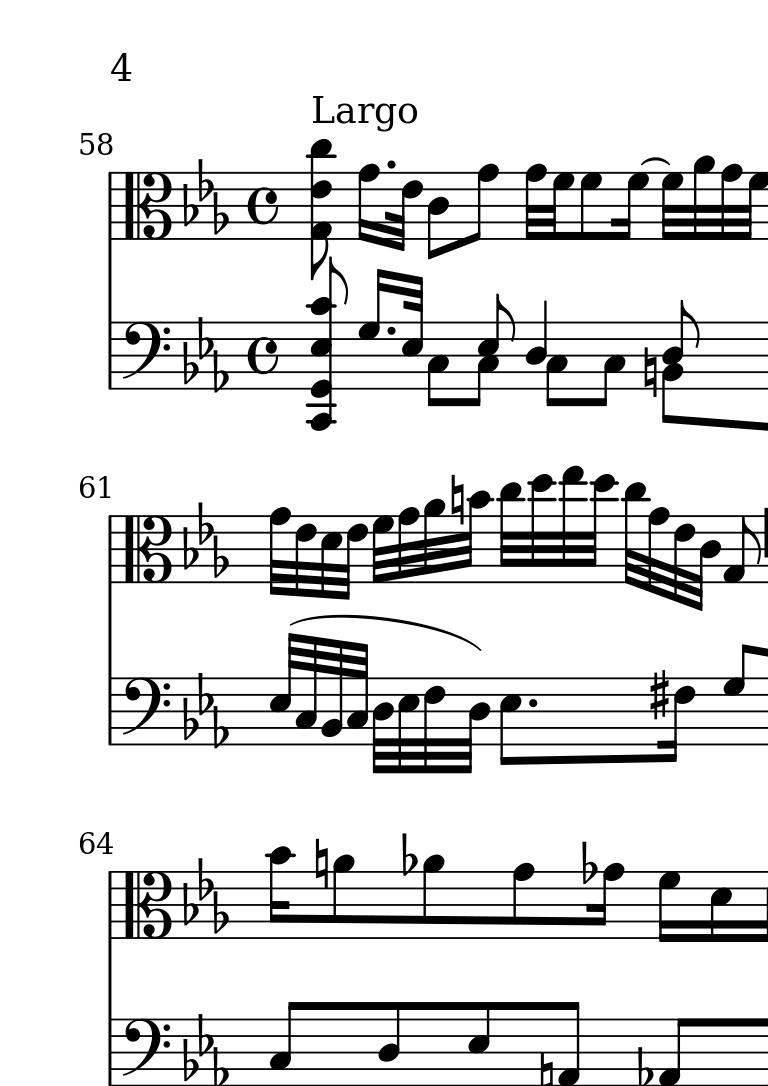1: (98, 474, 111, 501)
16_10: (266, 847, 293, 941)
16_5: (707, 869, 734, 945)
16_6: (659, 675, 695, 765)
16_7: (357, 268, 386, 389), (612, 171, 650, 242), (656, 869, 682, 947)
16_8: (588, 862, 625, 942), (356, 163, 381, 245)
16_9: (692, 155, 716, 241)
32_10: (461, 491, 490, 585)
32_11: (497, 481, 524, 584), (622, 481, 646, 589)
32_12: (524, 473, 555, 585), (587, 473, 618, 585)
32_13: (556, 465, 586, 585)
32_2: (319, 636, 343, 748)
32_3: (293, 632, 318, 747), (345, 640, 368, 748)
32_4: (461, 676, 491, 776), (695, 514, 722, 615), (371, 676, 395, 774)
32_5: (269, 630, 297, 746), (400, 271, 425, 392), (397, 675, 421, 774), (319, 515, 343, 599), (294, 515, 318, 598)
32_6: (385, 171, 423, 252), (421, 674, 448, 776), (341, 514, 367, 600), (672, 514, 696, 603)
32_7: (547, 171, 576, 240), (660, 171, 684, 242), (371, 514, 394, 584), (745, 172, 768, 241)
32_8: (645, 506, 669, 596), (269, 507, 291, 597), (719, 163, 742, 241), (397, 507, 420, 585), (525, 163, 545, 241)
32_9: (422, 500, 445, 585)
4: (111, 50, 134, 82), (96, 830, 115, 857)
4_4: (524, 302, 548, 396)
5: (77, 129, 96, 157)
6: (79, 473, 96, 501), (79, 829, 95, 855)
8: (95, 129, 114, 157)
8_1: (722, 514, 760, 583), (657, 1017, 690, 1086), (557, 999, 581, 1086)
8_2_4: (660, 299, 703, 429)
8_3: (592, 319, 626, 409), (267, 1000, 302, 1086), (545, 310, 568, 410), (426, 320, 451, 411)
8_3_5: (470, 294, 519, 408)
8_4: (426, 171, 451, 259), (377, 1000, 402, 1086)
8_4th: (307, 258, 349, 433)
8_5: (498, 675, 522, 770), (466, 1001, 491, 1086)
8_7: (721, 640, 749, 747), (578, 169, 604, 242)
8_8: (466, 162, 500, 244), (511, 861, 536, 943)
8_9: (331, 853, 356, 942), (421, 853, 445, 942)
8_th: (305, 136, 331, 278)
Cclef: (121, 870, 174, 941), (121, 514, 174, 584), (121, 172, 174, 241)
E_F: (182, 857, 230, 934), (182, 158, 228, 237), (183, 316, 227, 393), (183, 670, 227, 747), (183, 500, 224, 579), (184, 1012, 228, 1084)
Fclef: (120, 320, 171, 392), (120, 676, 171, 747), (120, 1017, 171, 1085)
Flat: (580, 840, 598, 888), (400, 831, 418, 878), (634, 1045, 654, 1086)
Natural: (641, 345, 659, 401), (449, 472, 466, 526), (313, 837, 329, 891), (537, 1051, 555, 1086)
Sharp: (648, 669, 670, 721)
Single_barline: (103, 1019, 120, 1084), (102, 517, 118, 583), (103, 679, 119, 745), (103, 324, 119, 389), (103, 172, 118, 240), (103, 873, 118, 939)
Slur: (289, 611, 485, 653), (641, 157, 670, 168)
TimeSig: (246, 171, 280, 242), (248, 318, 282, 389), (247, 171, 280, 239), (249, 321, 280, 392)
dot: (525, 695, 539, 710), (385, 155, 398, 170), (385, 323, 398, 337)
